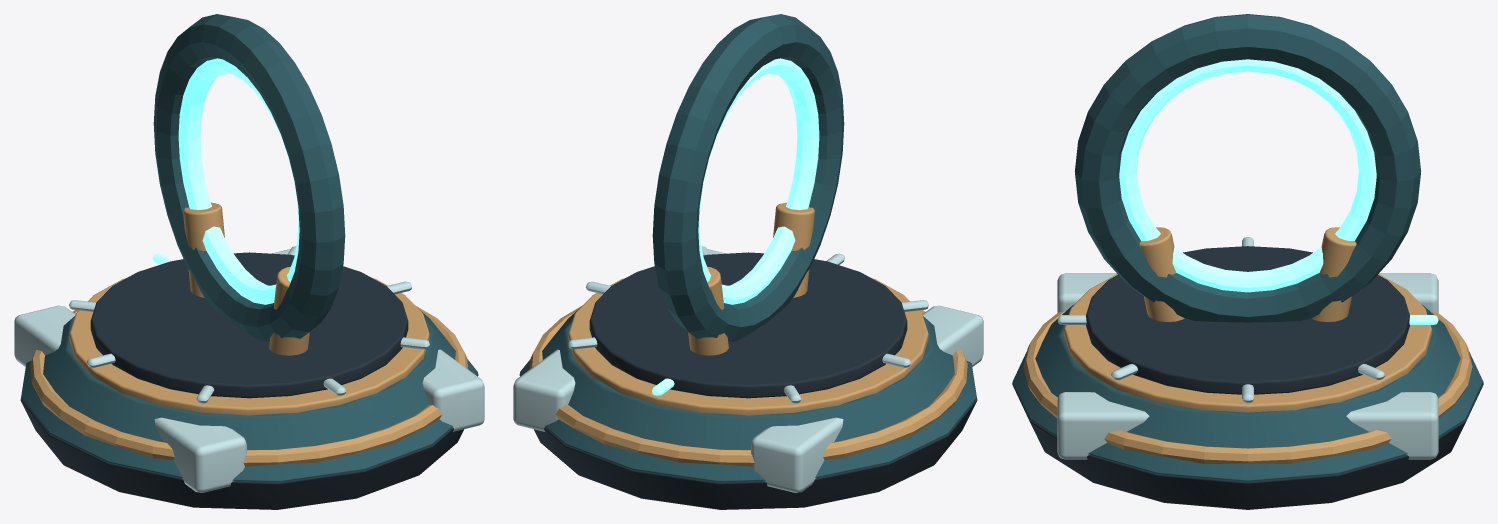
File: mobileTeleporter.glb
3 views of the same model, side by side, from view 1: azimuth 30°, elevation 25°; view 2: azimuth 150°, elevation 25°; view 3: azimuth 270°, elevation 25° (orthographic). The views are drawn at different scales.
Parts seen in each view (by area): view 1: mobileTeleporter; view 2: mobileTeleporter; view 3: mobileTeleporter.
Boxes of the visible parts, x1=… form: mobileTeleporter: x1=14, y1=14, x2=484, y2=509; mobileTeleporter: x1=513, y1=14, x2=983, y2=509; mobileTeleporter: x1=1012, y1=14, x2=1483, y2=509.
Size of the model in its own units: 1.08 by 1.01 by 1.08.
